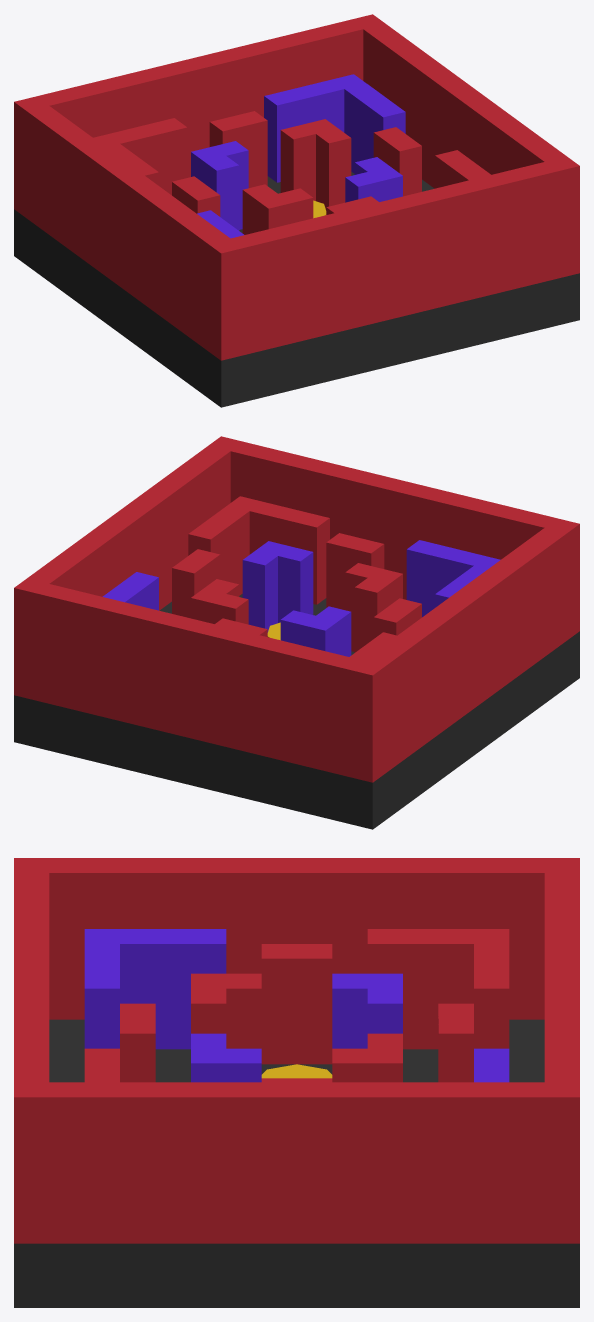
File: Nivel1.fbx
The picture shows the model from 3 angles, top to bottom: view 1: azimuth 30°, elevation 25°; view 2: azimuth 150°, elevation 25°; view 3: azimuth 270°, elevation 25°; orthographic projection. The views are drawn at different scales.
Visible parts, largest first — view 1: KillObst, Base, Obstacle; view 2: KillObst, Base, Obstacle; view 3: KillObst, Base, Obstacle, Win.
Part boxes in pixels (x1,y1,x2,y2): KillObst: (14,14,579,360); Base: (14,172,579,407); Obstacle: (191,74,405,238); KillObst: (14,436,579,782); Base: (14,594,579,829); Obstacle: (102,540,500,656); KillObst: (14,858,579,1243); Base: (14,1019,579,1307); Obstacle: (84,929,509,1082); Win: (261,1064,332,1078).
Size of the model in its own units: 1600 by 657 by 1600.
